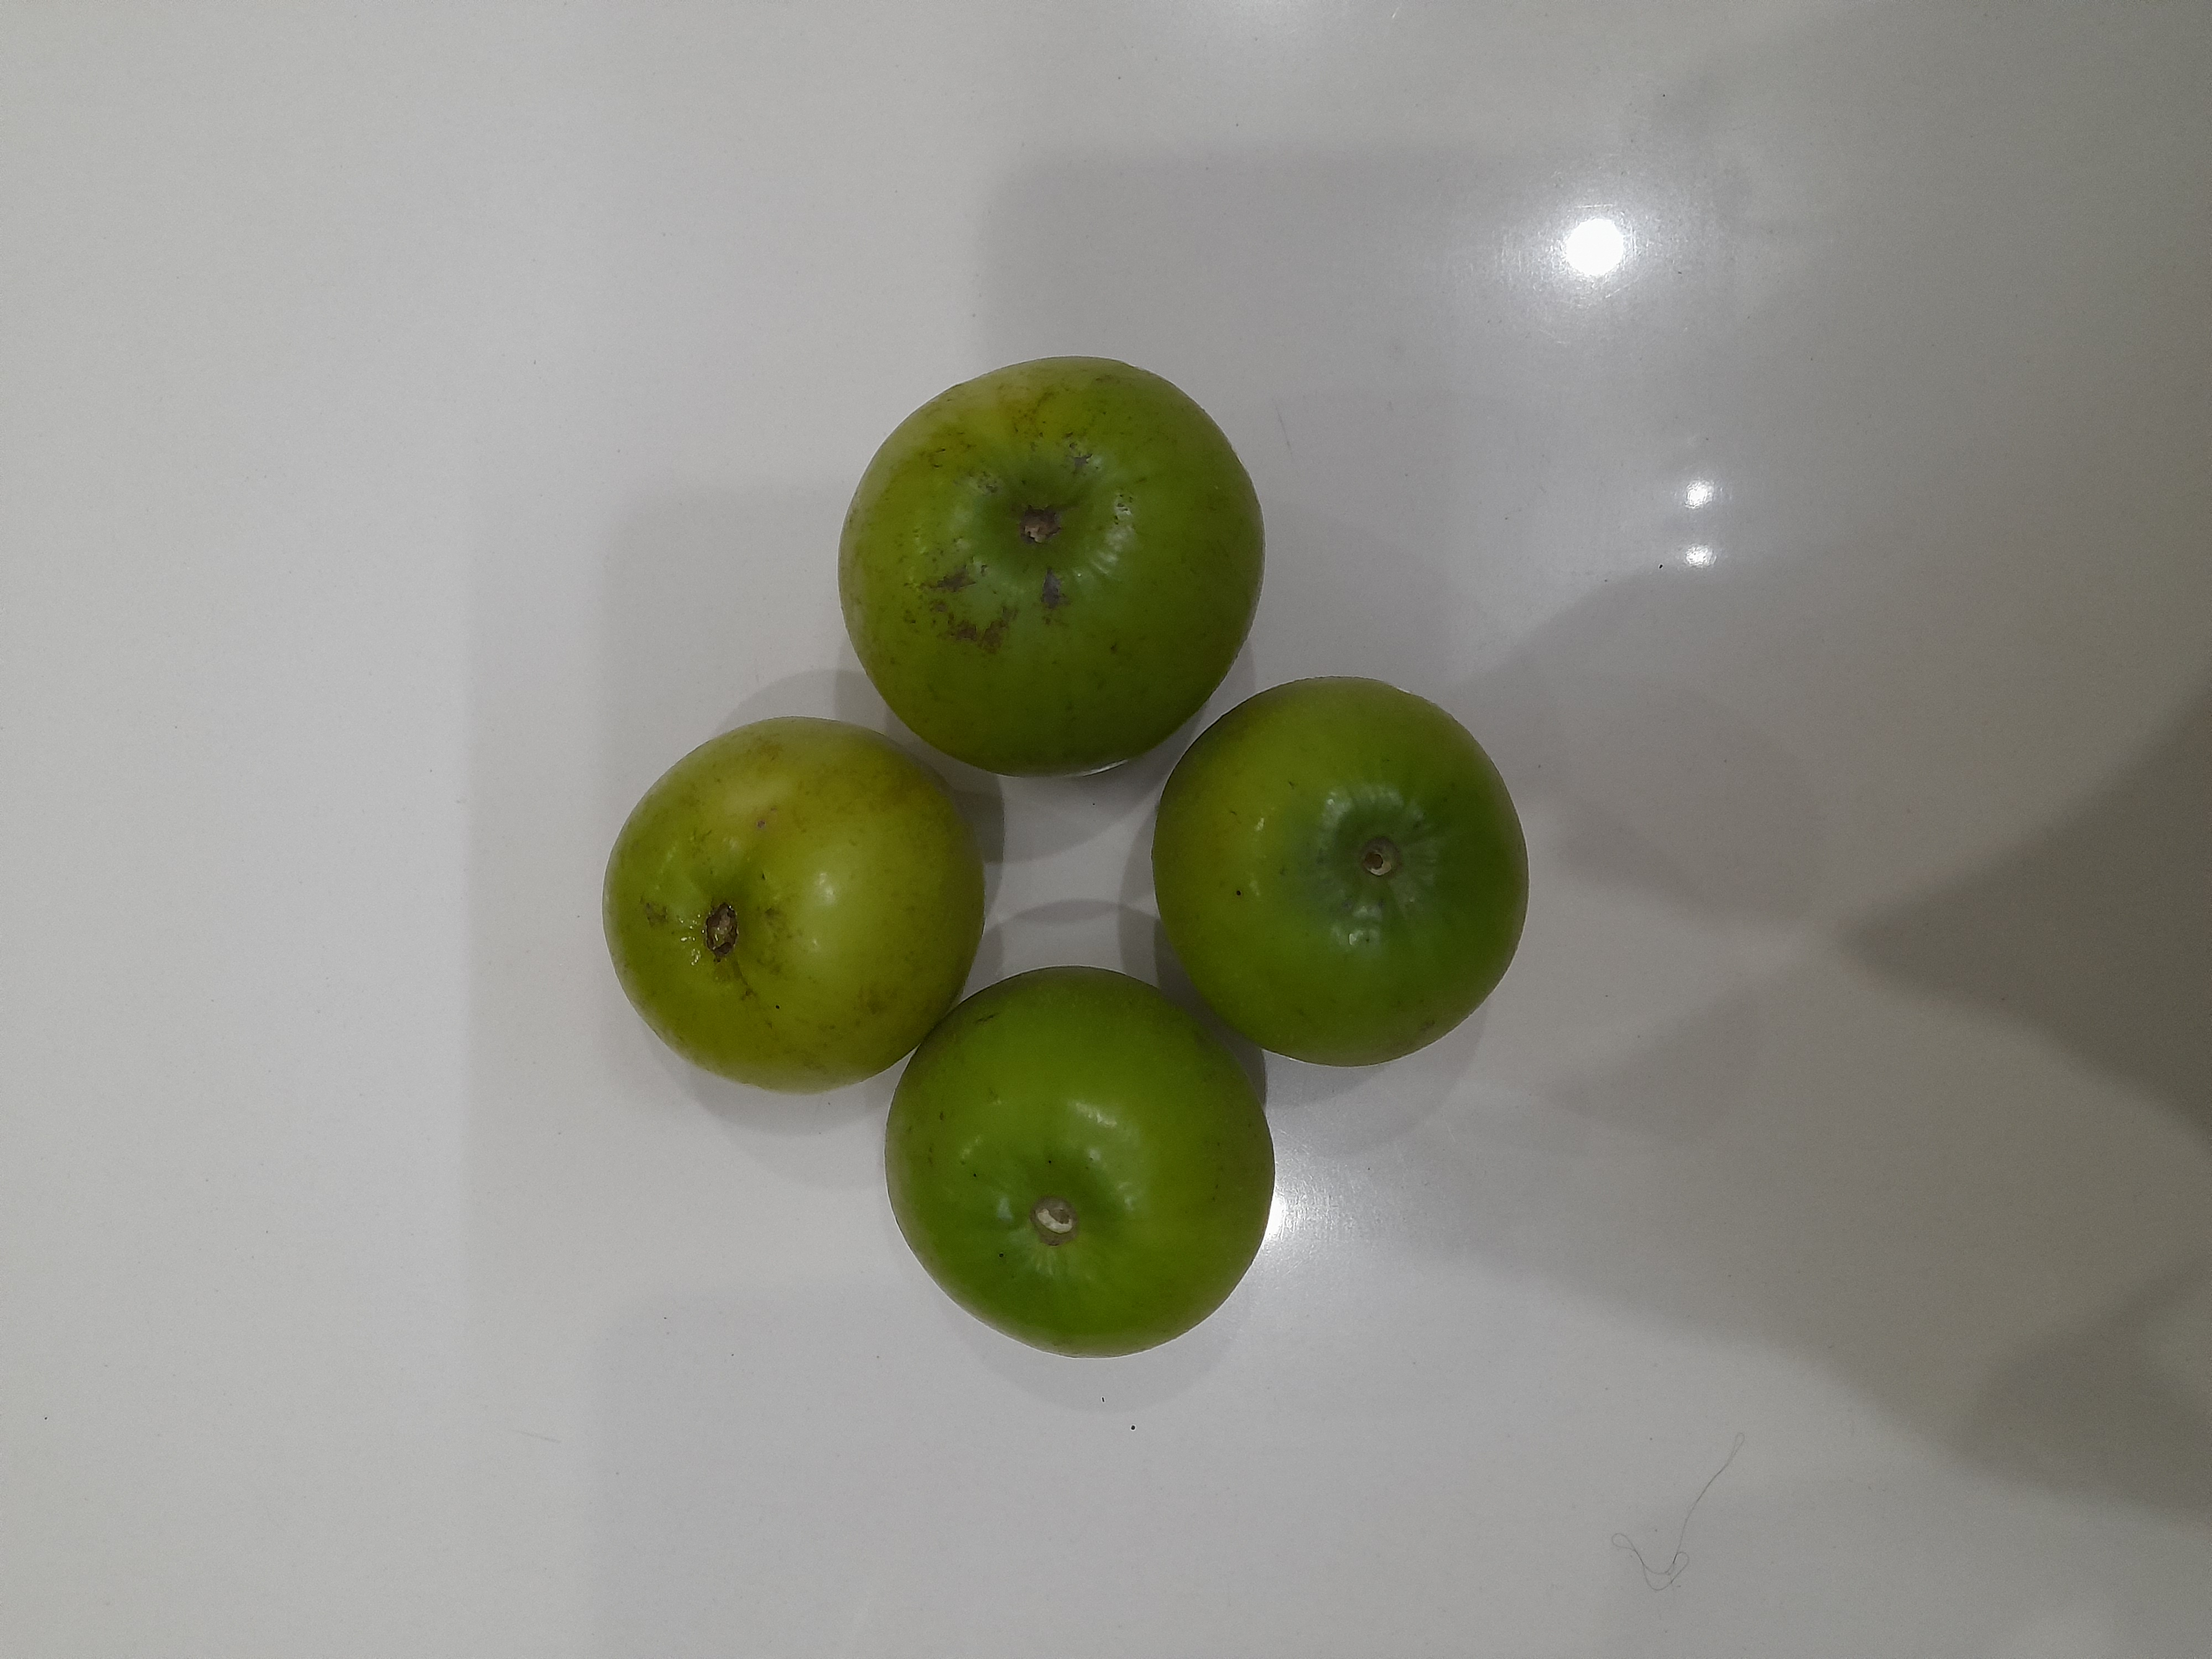Tao xanh: (838, 357, 1268, 782), (887, 964, 1273, 1361), (1151, 676, 1531, 1066), (603, 718, 988, 1093)
